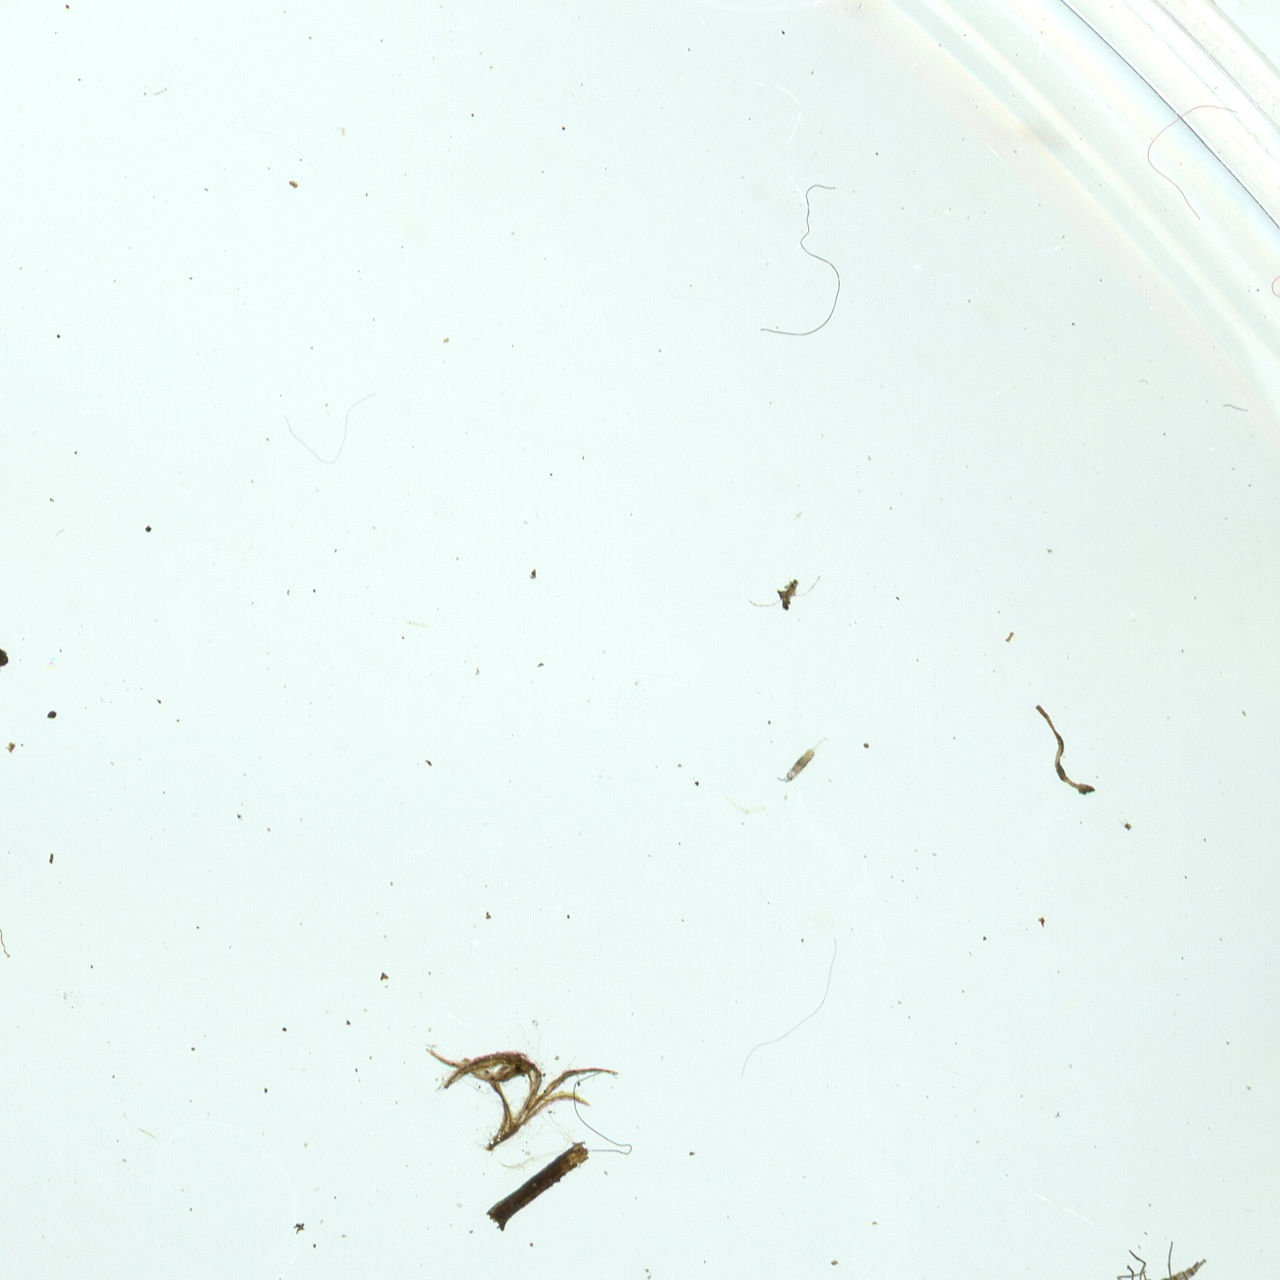arthropod: (1058, 1203, 1226, 1280), (771, 726, 835, 795)
